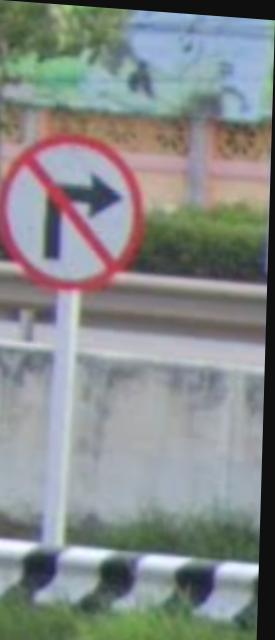not_turn_right: (5, 123, 152, 297)
